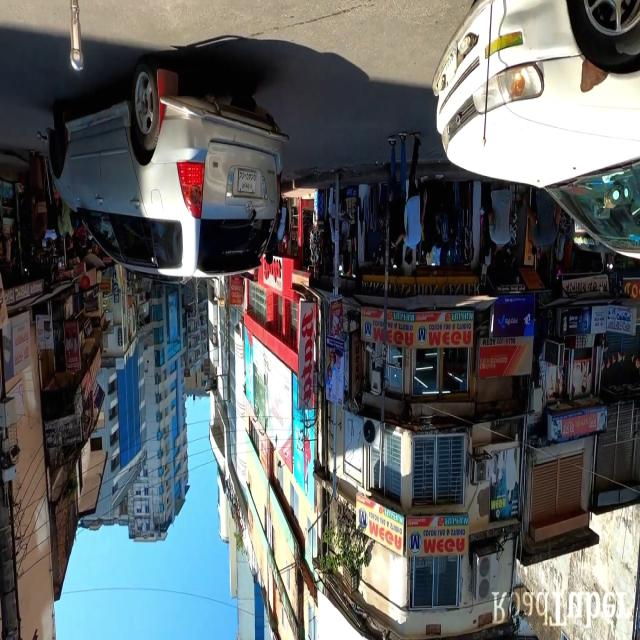white: (40, 61, 297, 287), (432, 1, 640, 264)
